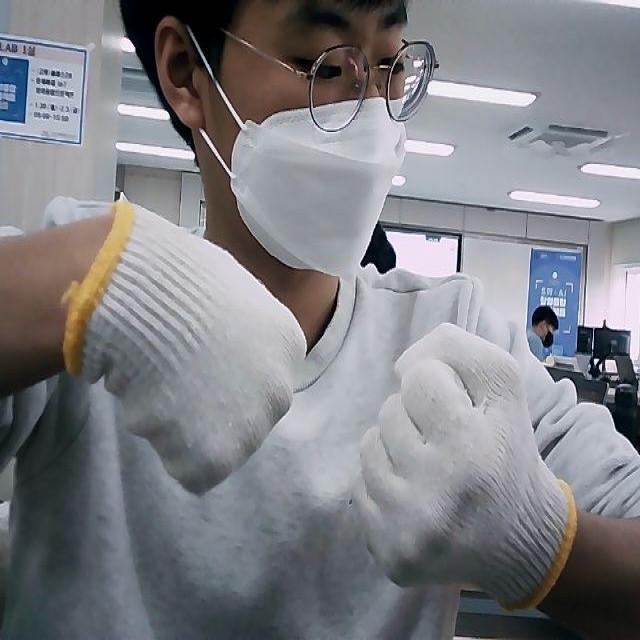gloves: (60, 197, 306, 496), (352, 322, 582, 612)
